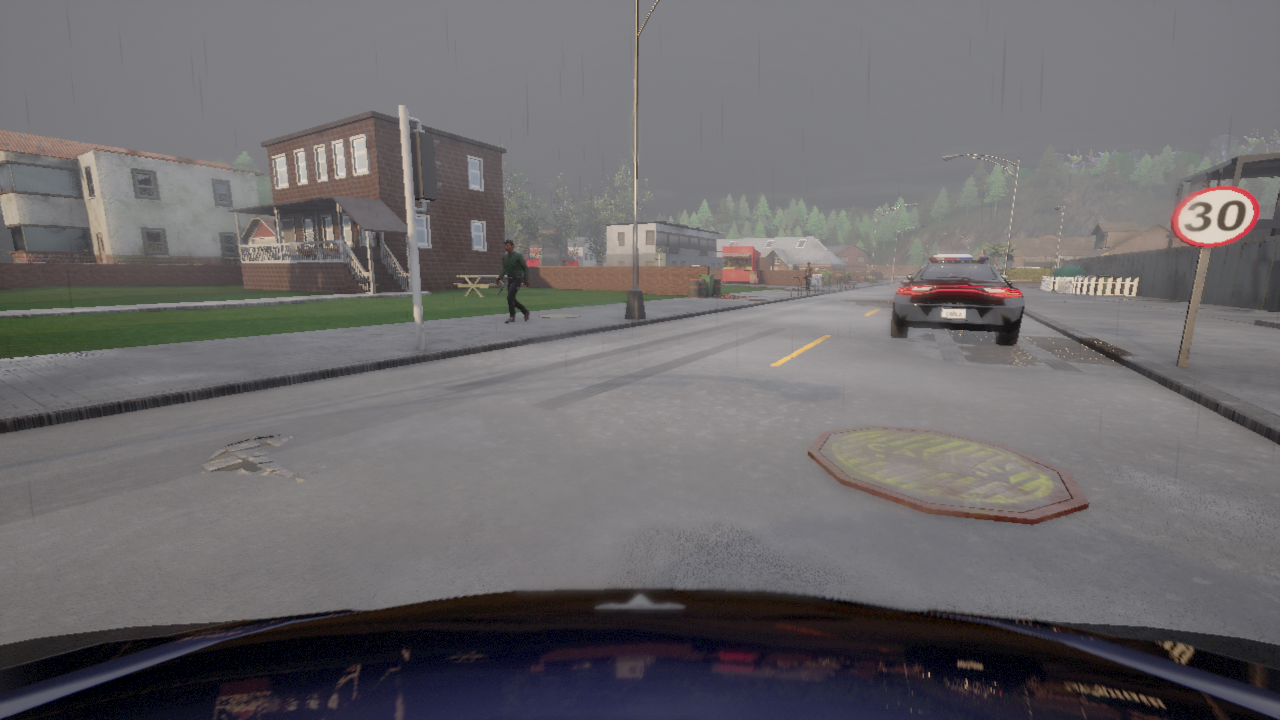cyclist: (0, 588, 1279, 719), (890, 257, 1024, 344), (933, 254, 971, 256)
pedestrian: (496, 240, 529, 322), (804, 263, 812, 289)
